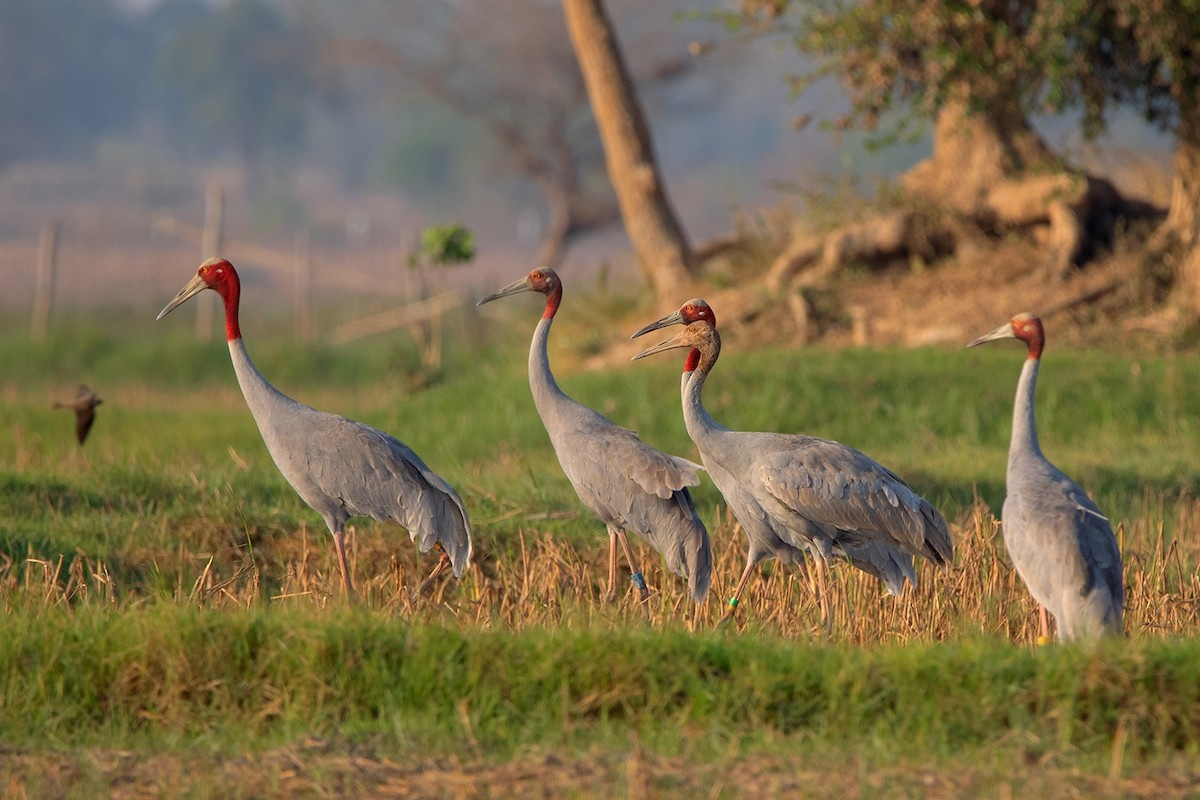crane: (152, 251, 481, 605), (630, 293, 945, 636), (630, 314, 952, 625), (475, 260, 710, 614), (964, 299, 1137, 651)
